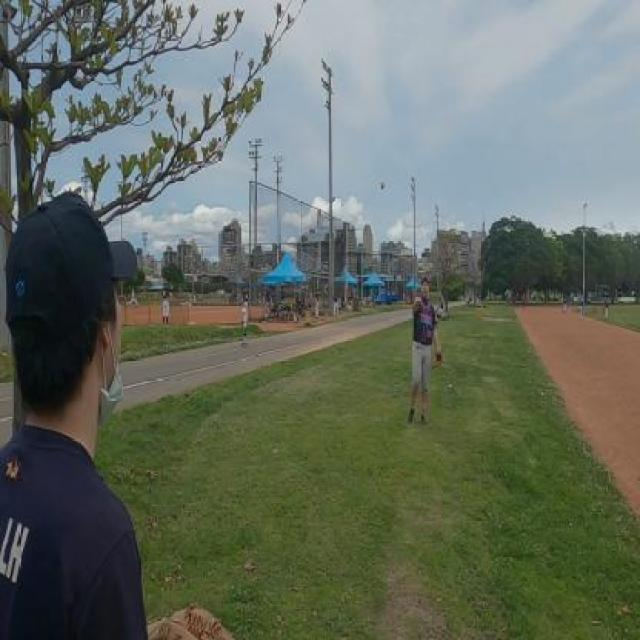baseball: (380, 181, 385, 190)
